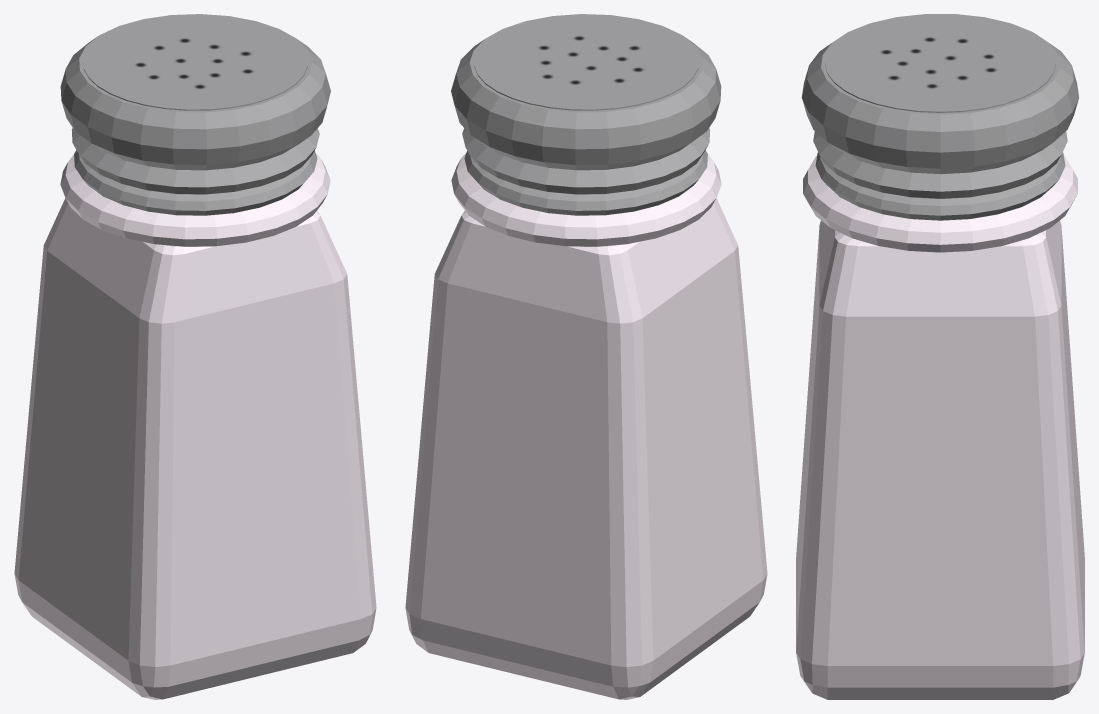
File: Salt.fbx
The picture shows the model from 3 angles, left to right: view 1: azimuth 30°, elevation 25°; view 2: azimuth 150°, elevation 25°; view 3: azimuth 270°, elevation 25°; orthographic projection. The views are drawn at different scales.
Parts seen in each view (by area): view 1: Cube; view 2: Cube; view 3: Cube.
Part boxes in pixels (bbox=[...]): Cube: bbox=[14, 14, 376, 699]; Cube: bbox=[405, 14, 767, 699]; Cube: bbox=[796, 14, 1084, 699].
Size of the model in its own units: 200 by 450 by 200.
1 material, 1 textured.
